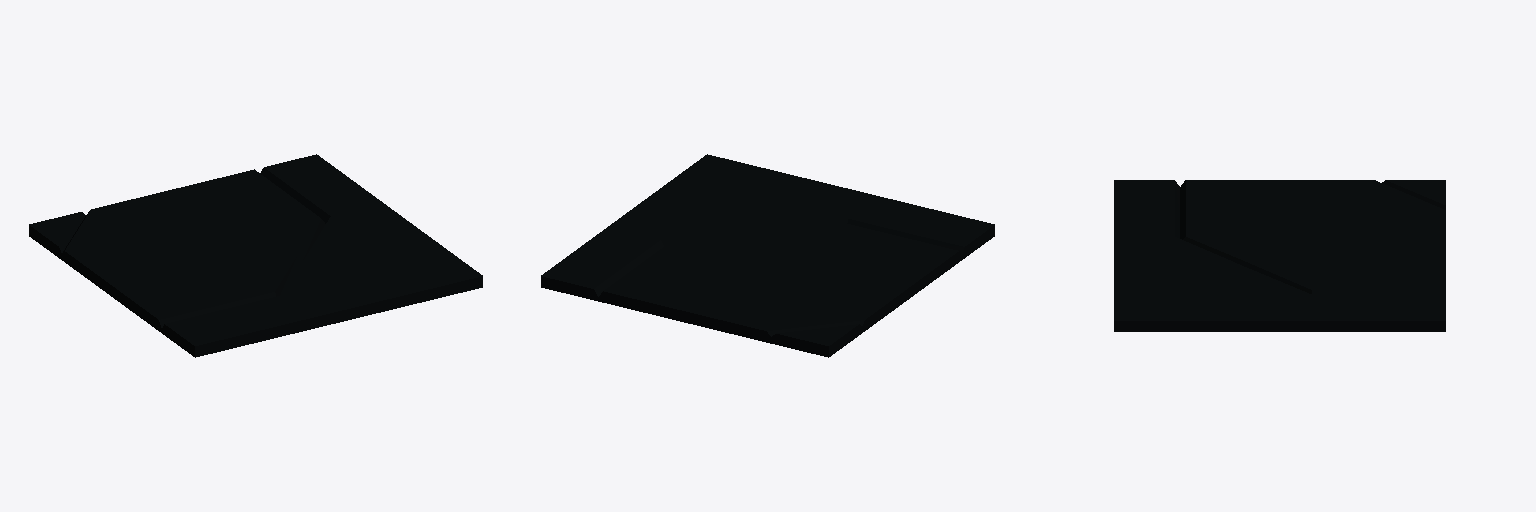
The model's file is Floor_Mid_Path_Corner_1.obj.
The picture shows the model from 3 angles: view 1: azimuth 30°, elevation 25°; view 2: azimuth 150°, elevation 25°; view 3: azimuth 270°, elevation 25°; orthographic projection.
Parts seen in each view (by area): view 1: Floor_Mid_Path_Corner_1; view 2: Floor_Mid_Path_Corner_1; view 3: Floor_Mid_Path_Corner_1.
Part boxes in pixels (x1,y1,x2,y2): Floor_Mid_Path_Corner_1: (29,154,482,357); Floor_Mid_Path_Corner_1: (541,154,994,357); Floor_Mid_Path_Corner_1: (1114,180,1445,331).
Size of the model in its own units: 4 by 0.15 by 4.